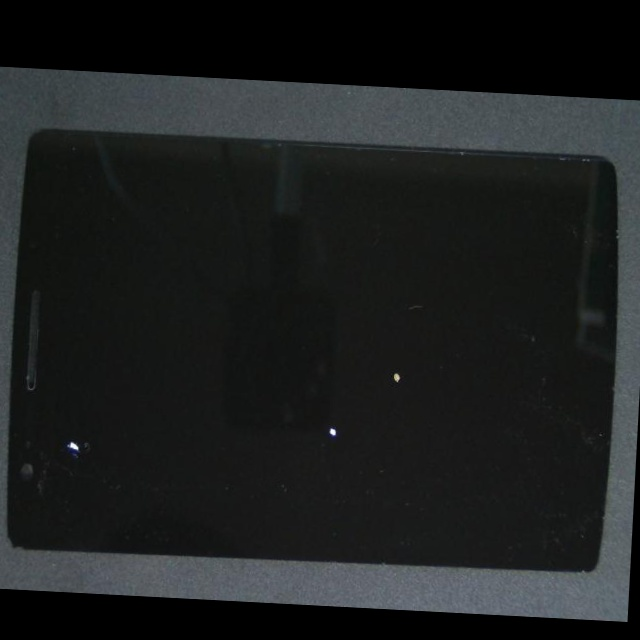stain: (129, 231, 607, 557), (156, 195, 517, 589), (0, 270, 137, 595)
